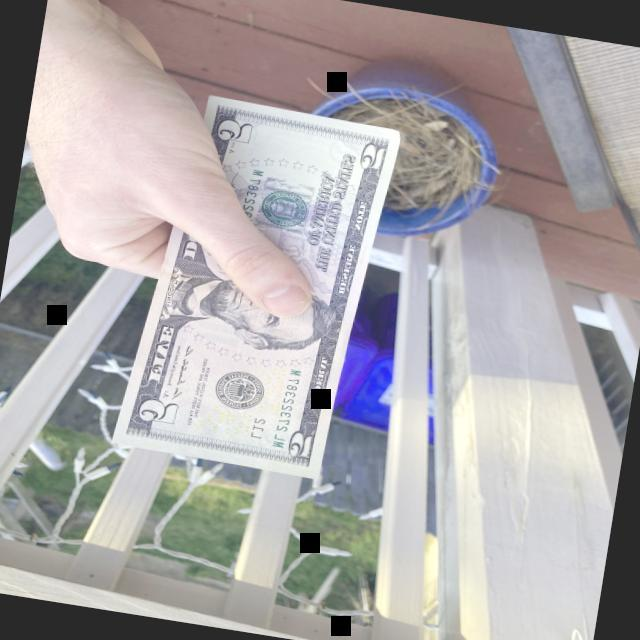five: (112, 93, 403, 478)
